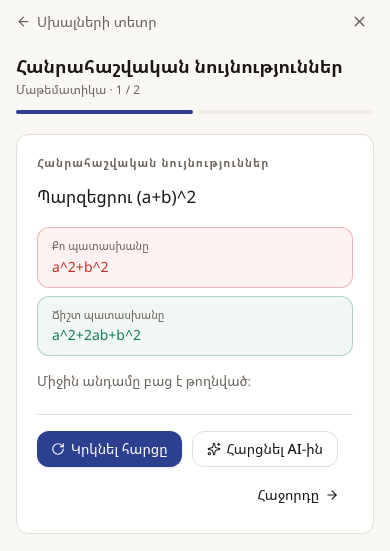
MistakeReviewSessionPage › shows one mistake at a time with its position in the set
This screenshot has width=390, height=551.
Expected: the text "1 / 2" is shown, [116,81,140,98]
Expected: the text "Պարզեցրու (a+b)^2" is shown, [37,184,196,208]
Click the button "Հաջորդը".
click(298, 495)  # box [244,477,353,513]
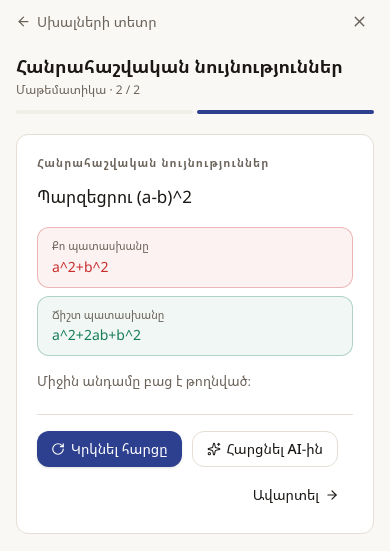
Expected: the text "2 / 2" is shown, [116,81,140,98]
Expected: the text "Պարզեցրու (a-b)^2" is shown, [37,184,192,208]
